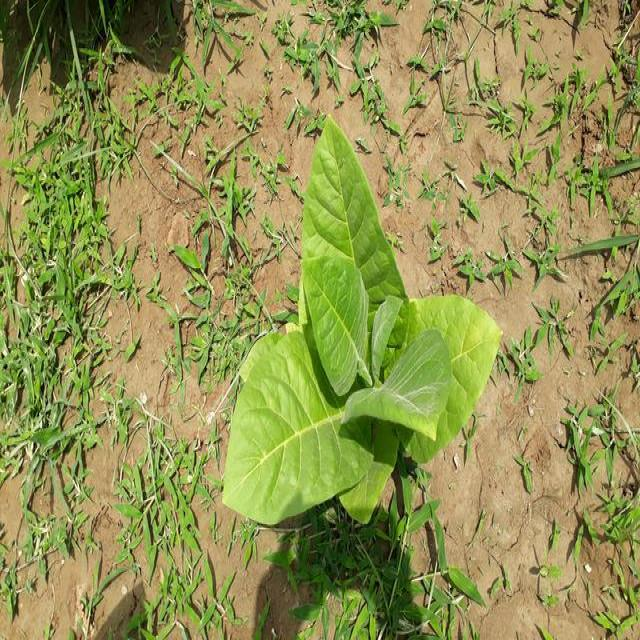crop: (218, 128, 503, 544)
